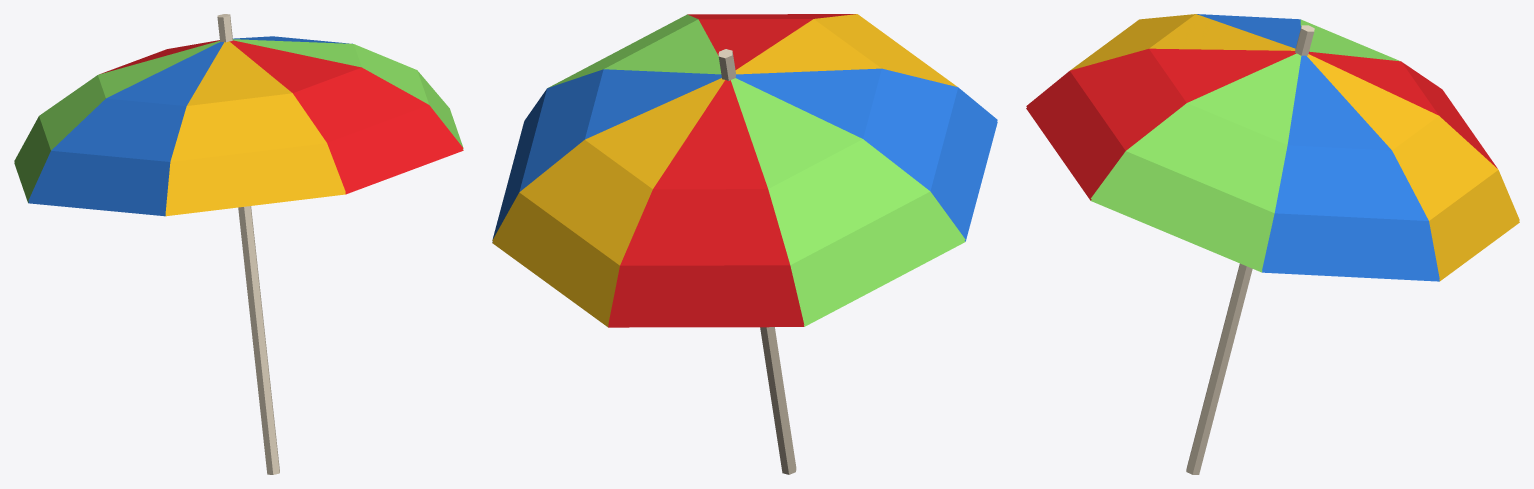
The model's file is Parasol.fbx.
The picture shows the model from 3 angles, left to right: view 1: azimuth 30°, elevation 25°; view 2: azimuth 150°, elevation 25°; view 3: azimuth 270°, elevation 25°; orthographic projection. The views are drawn at different scales.
Visible parts, largest first — view 1: Parasol; view 2: Parasol; view 3: Parasol.
Part boxes in pixels (<box>): Parasol: <box>14,14,463,474</box>; Parasol: <box>492,14,997,474</box>; Parasol: <box>1026,14,1519,474</box>.
Bounding box in the file's own units: 1.91 × 1.86 × 1.86.
